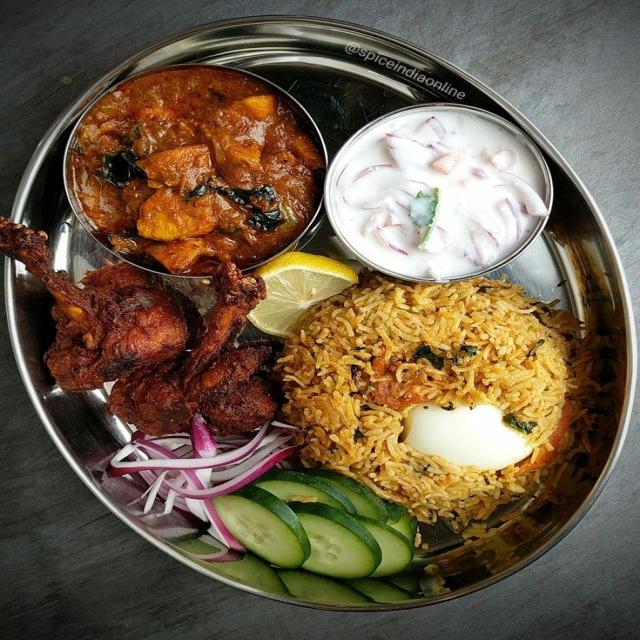non veg meals: (0, 42, 640, 612)
